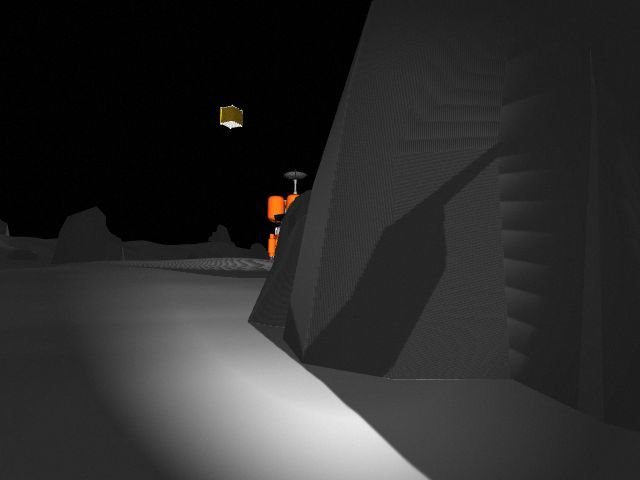cubesat: (212, 99, 247, 133)
